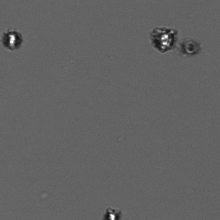Dead Cell: (182, 39, 199, 56)
Living Cell: (150, 26, 177, 52), (2, 29, 24, 50)
